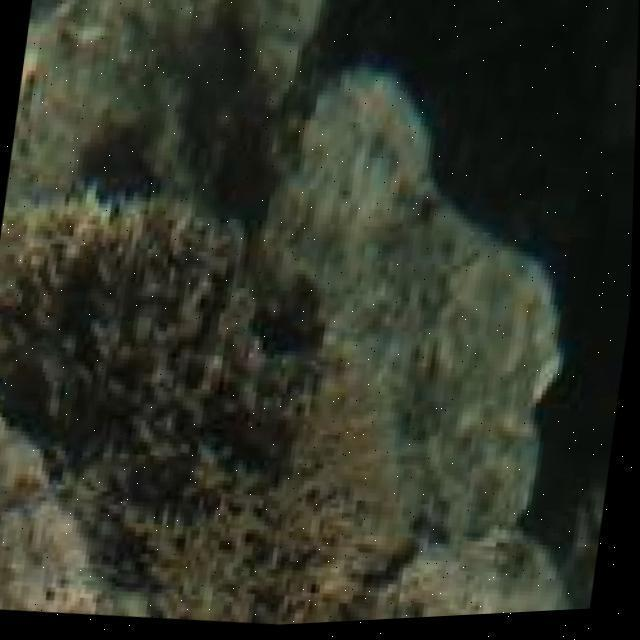Dead Coral: (0, 149, 443, 640)
